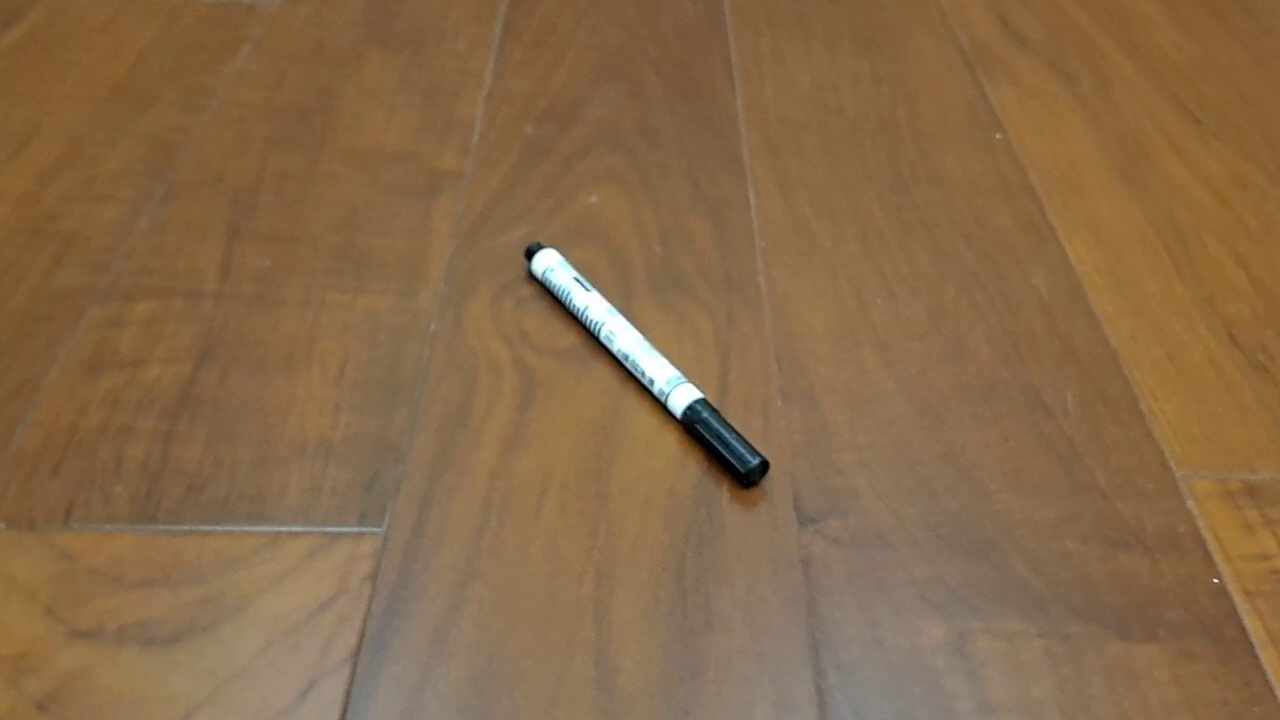pen: (523, 241, 770, 490)
